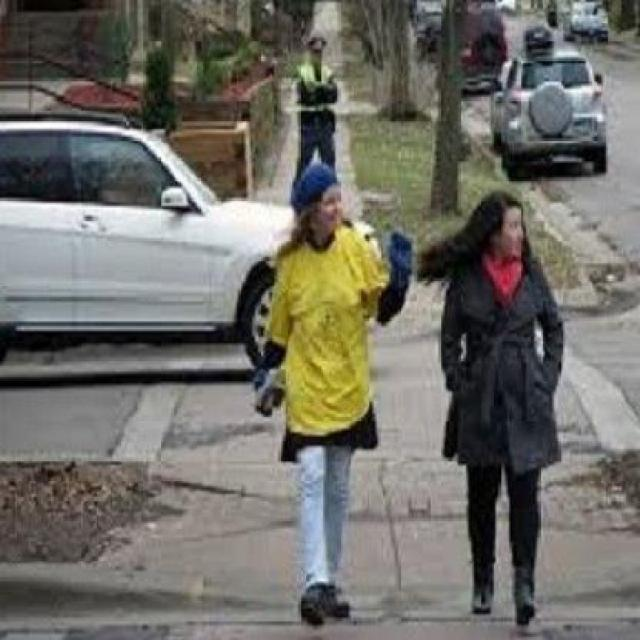Person: (260, 169, 412, 633), (436, 186, 566, 634), (285, 24, 358, 187)
